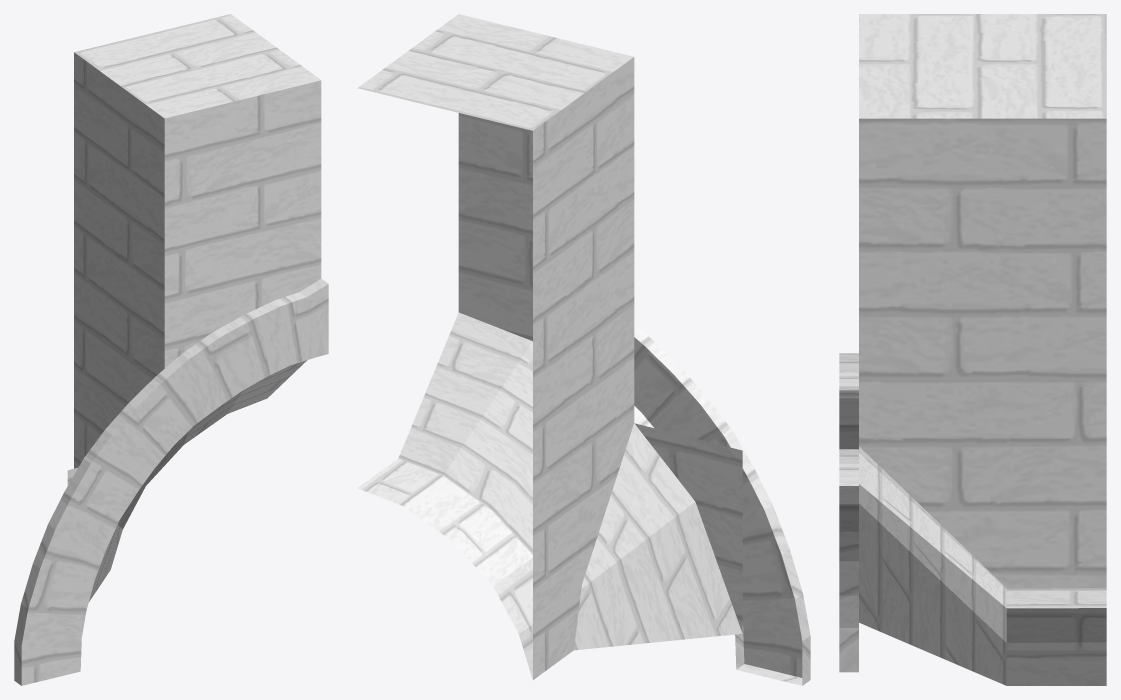
File: castle_type_t.gltf
3 views of the same model, side by side, from view 1: azimuth 30°, elevation 25°; view 2: azimuth 150°, elevation 25°; view 3: azimuth 270°, elevation 25° (orthographic). The views are drawn at different scales.
Parts seen in each view (by area): view 1: Type_T; view 2: Type_T; view 3: Type_T.
Part boxes in pixels (box(x1,y1,x2,y2)): Type_T: box(14, 14, 328, 685); Type_T: box(357, 14, 810, 685); Type_T: box(839, 14, 1106, 685).
Size of the model in its own units: 0.9795 by 1.6 by 0.54.
1 material, 1 textured.
